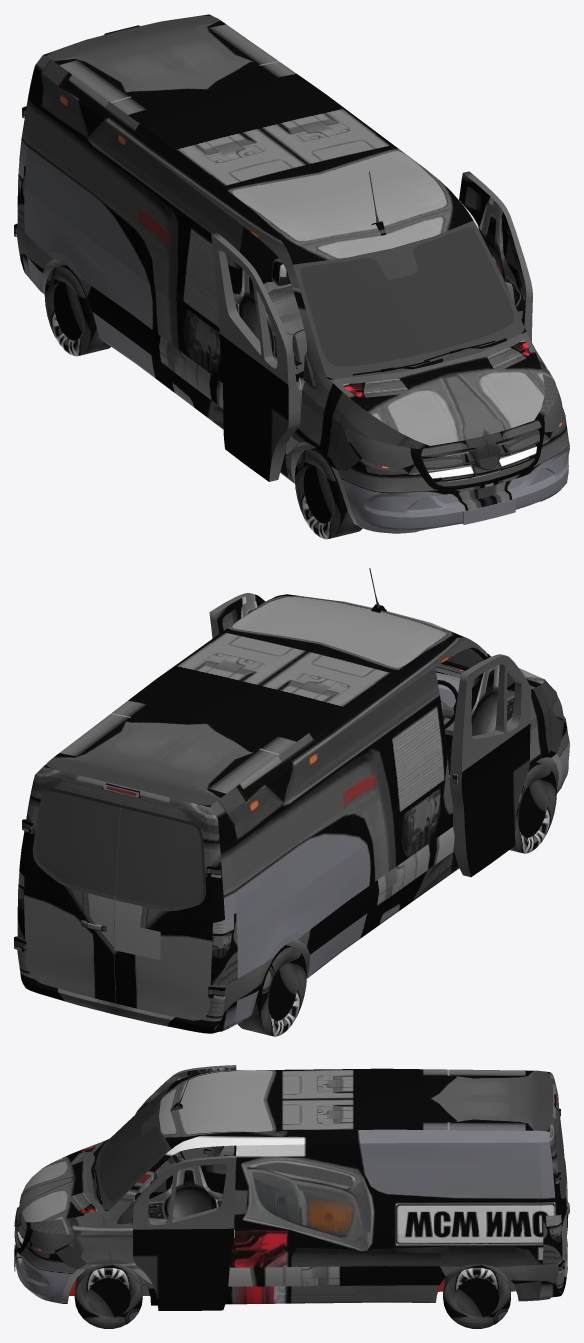
Rendered from Car_Van.glb.
The picture shows the model from 3 angles, top to bottom: view 1: azimuth 30°, elevation 25°; view 2: azimuth 150°, elevation 25°; view 3: azimuth 270°, elevation 25°; orthographic projection. The views are drawn at different scales.
Visible parts, largest first — view 1: Car_Van; view 2: Car_Van; view 3: Car_Van.
Part boxes in pixels (<box>): Car_Van: <box>14,14,569,539</box>; Car_Van: <box>14,568,569,1036</box>; Car_Van: <box>14,1065,569,1328</box>.
Bounding box in the file's own units: 18.26 × 20.05 × 46.21.
Materials: 3 (3 with a texture image).
